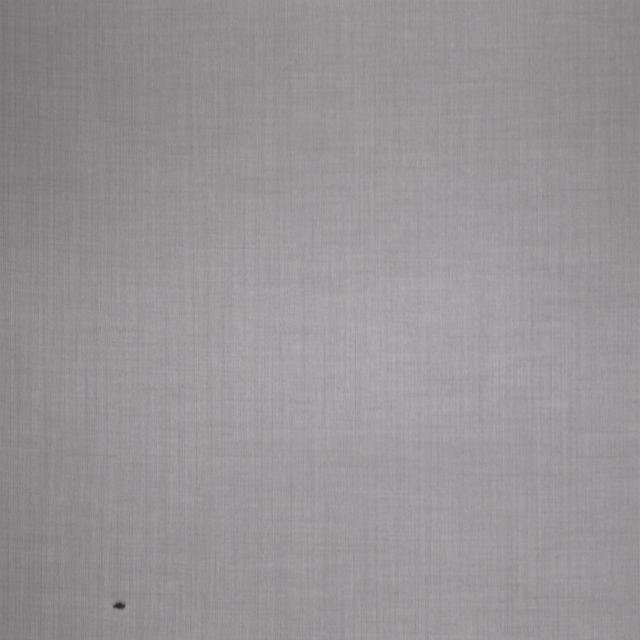dirty: (112, 600, 127, 610)
